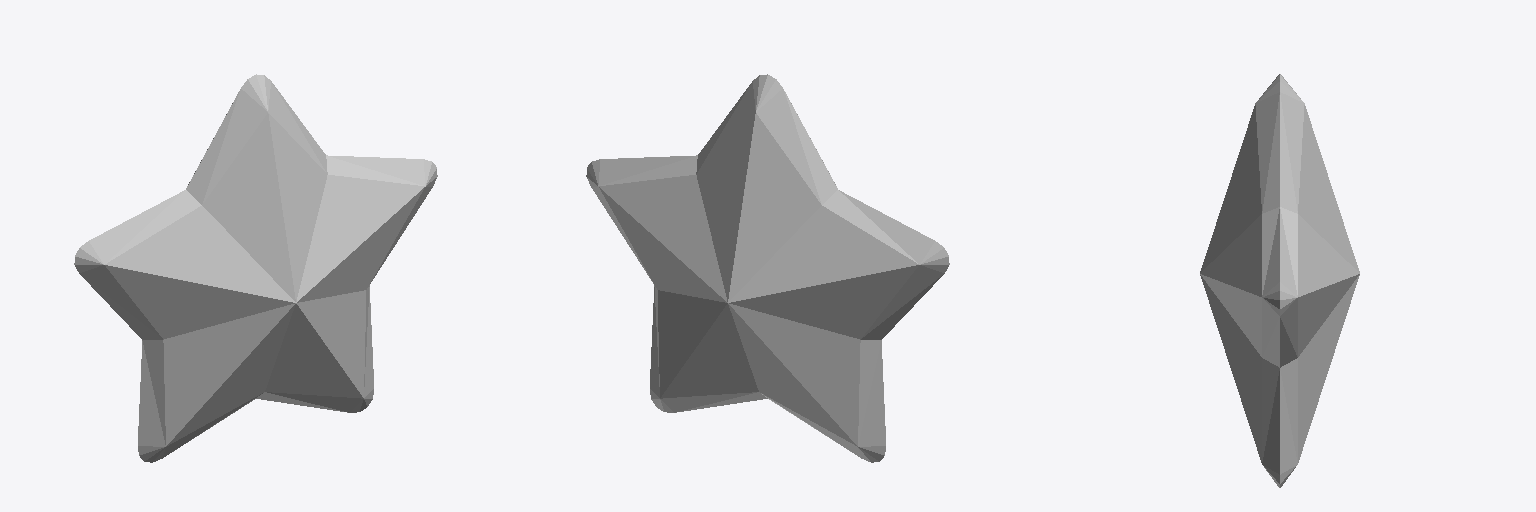
The model's file is star.obj.
3 views of the same model, side by side, from view 1: azimuth 30°, elevation 25°; view 2: azimuth 150°, elevation 25°; view 3: azimuth 270°, elevation 25° (orthographic).
Parts seen in each view (by area): view 1: Star; view 2: Star; view 3: Star.
Boxes of the visible parts, <box> form: Star: <box>74,74,437,462</box>; Star: <box>586,74,949,462</box>; Star: <box>1200,74,1359,487</box>.
Size of the model in its own units: 2.64 by 2.52 by 1.01.